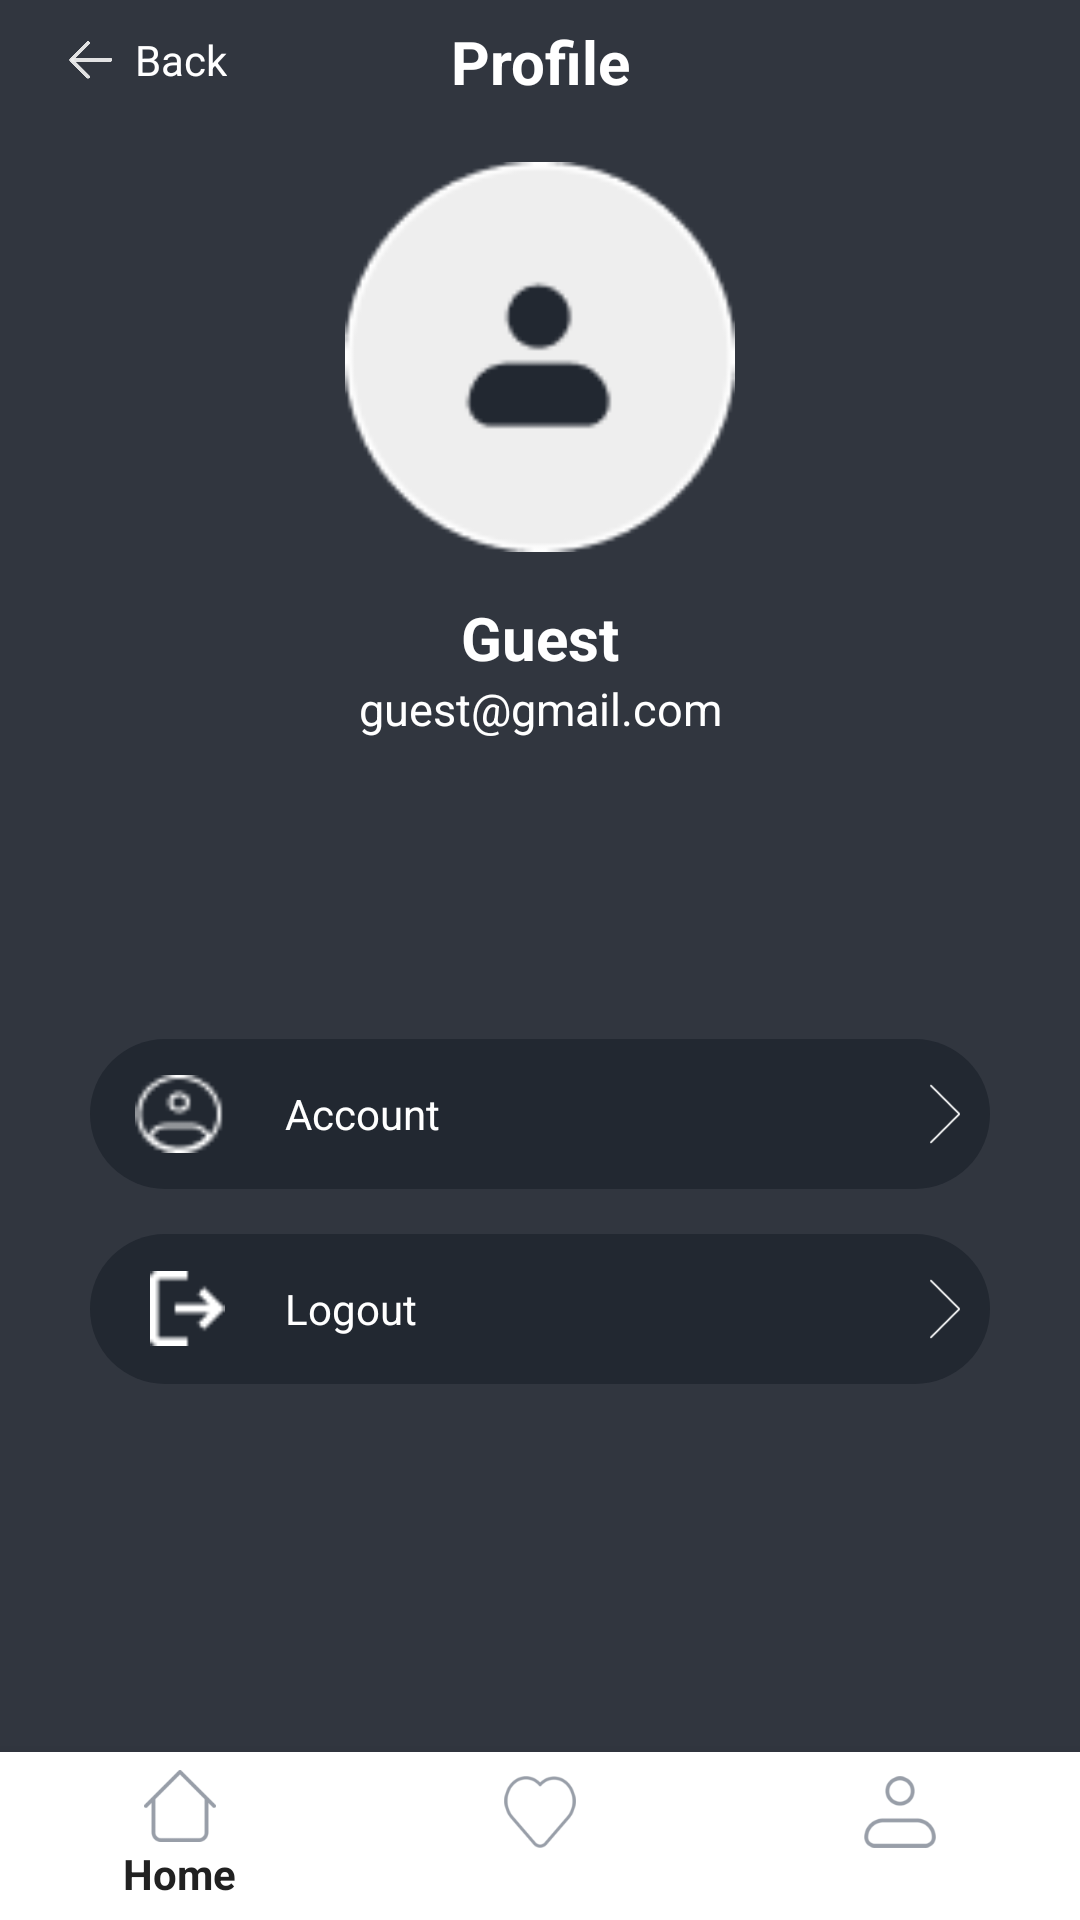

Icon click points for this 1080*1920 phone screenshot, format (x,y):
panahkanan: (945,1114), (945,1309)
